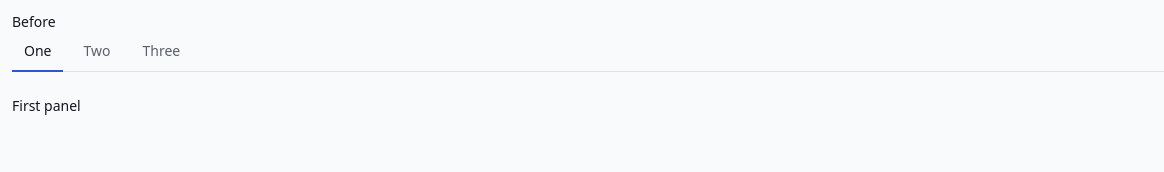
Scenario: Tabs › selects a tab on click
Click the tab "Three": (161, 52) [130,32,192,72]
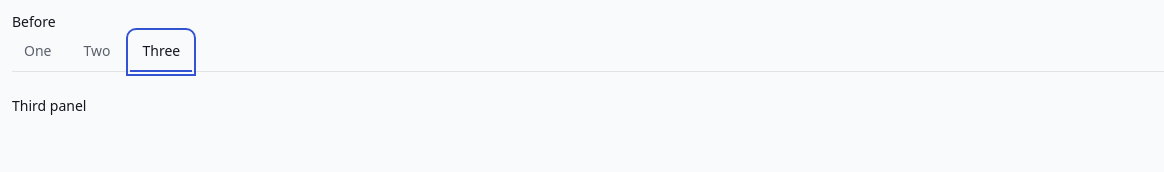
Expected: the panel reads "Third panel", [12,96,86,115]
